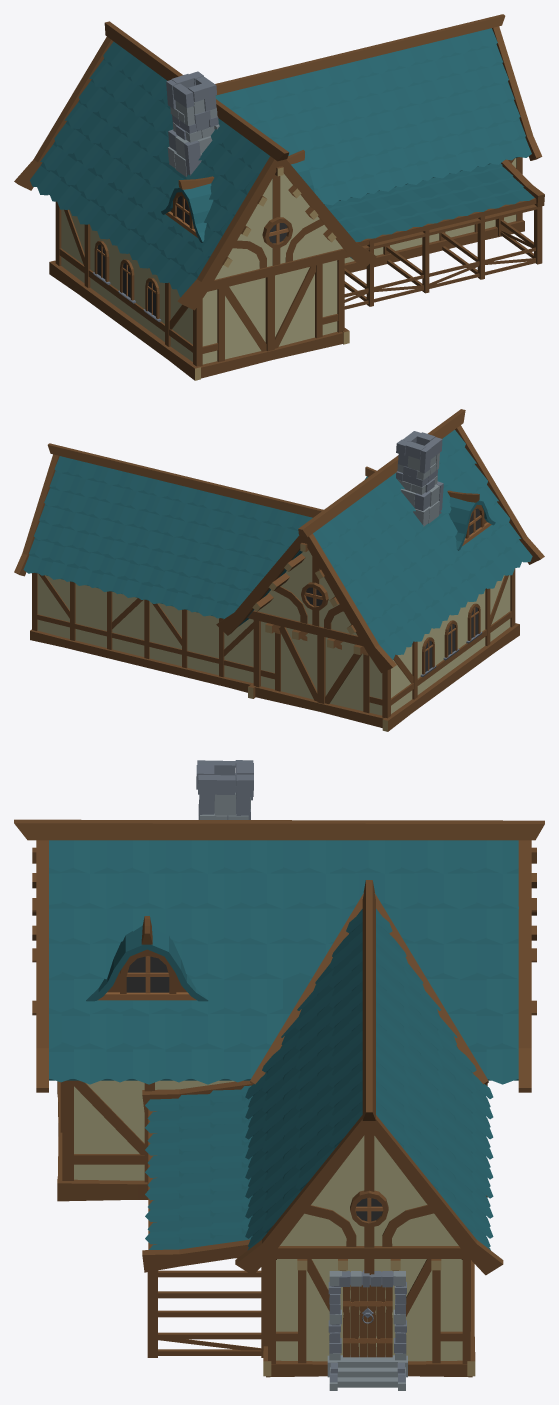
File: stable.003_lev2.glb
3 renders of one model, top to bottom at view 1: azimuth 30°, elevation 25°; view 2: azimuth 150°, elevation 25°; view 3: azimuth 270°, elevation 25°, orthographic. The views are drawn at different scales.
Visible parts, largest first — view 1: stable.003_lev2; view 2: stable.003_lev2; view 3: stable.003_lev2.
Boxes of the visible parts, left/top/right/bottom form: stable.003_lev2: left=14, top=14, right=544, bottom=380; stable.003_lev2: left=14, top=409, right=544, bottom=731; stable.003_lev2: left=14, top=760, right=544, bottom=1390.
Size of the model in its own units: 9.4 by 4.98 by 6.65.
